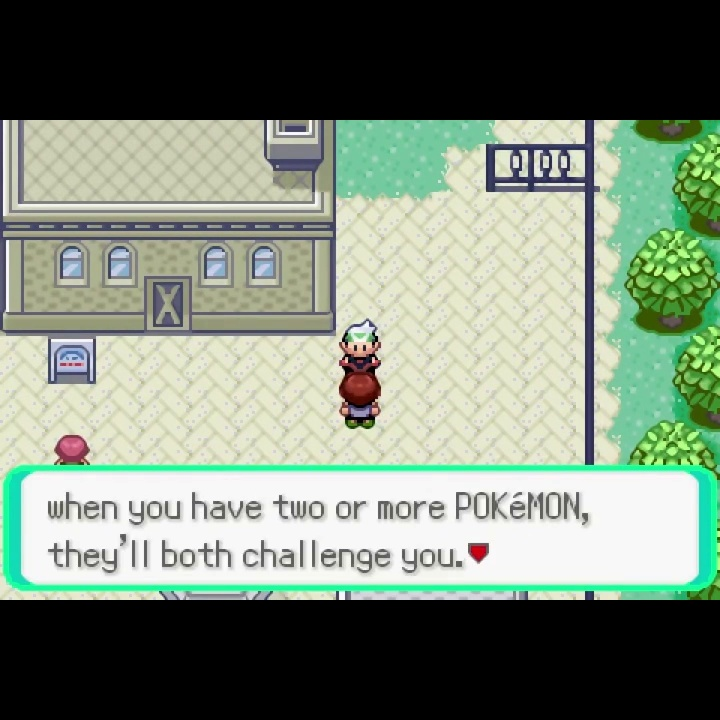house: (1, 120, 338, 337)
npc: (337, 372, 384, 433), (337, 316, 384, 374), (52, 431, 93, 466)
wall: (623, 228, 720, 336), (671, 133, 720, 240), (672, 323, 720, 431), (626, 421, 720, 466), (631, 120, 720, 144)
